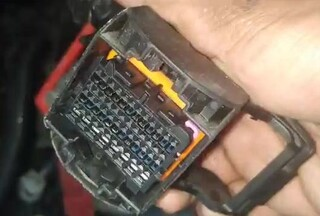connector: (43, 5, 252, 216)
